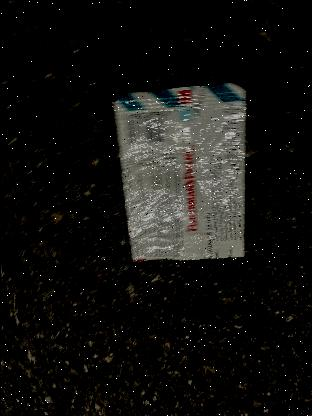Others: (103, 76, 262, 272)
